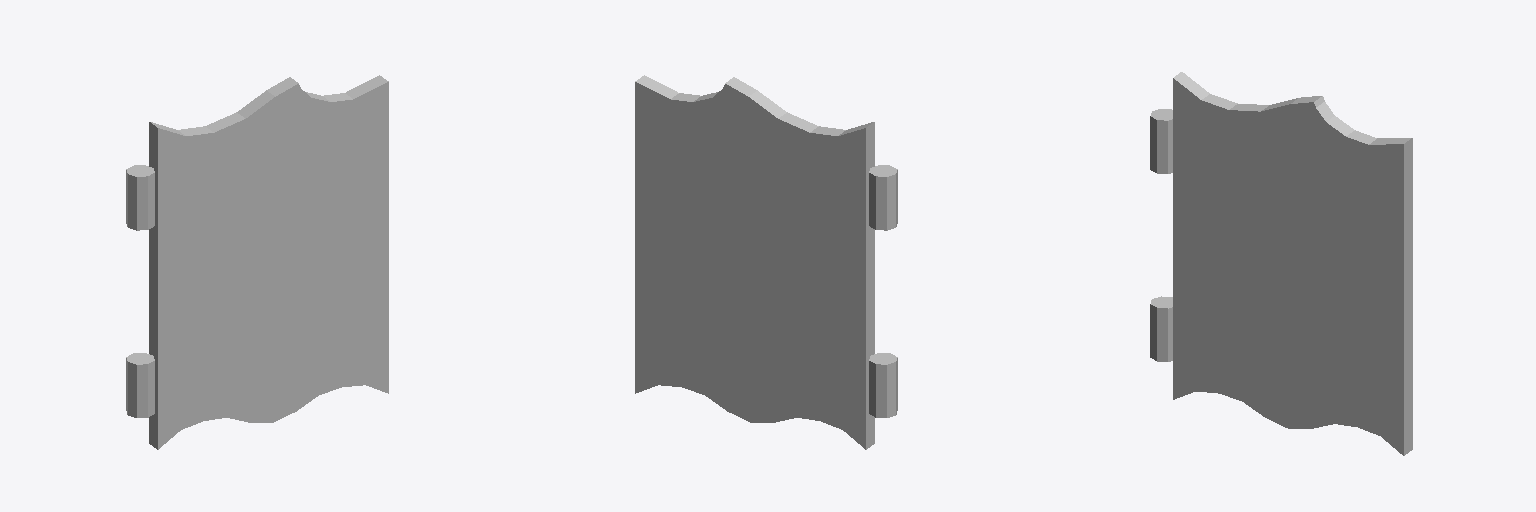
The model's file is saloonDoor2.obj.
3 renders of one model, left to right at view 1: azimuth 30°, elevation 25°; view 2: azimuth 150°, elevation 25°; view 3: azimuth 330°, elevation 25°, orthographic.
Parts seen in each view (by area): view 1: Cube; view 2: Cube; view 3: Cube.
Part boxes in pixels (left/top/right/bottom): Cube: left=126, top=75, right=388, bottom=449; Cube: left=635, top=75, right=897, bottom=449; Cube: left=1150, top=72, right=1412, bottom=455.
Bounding box in the file's own units: 1 × 1.24 × 0.1.